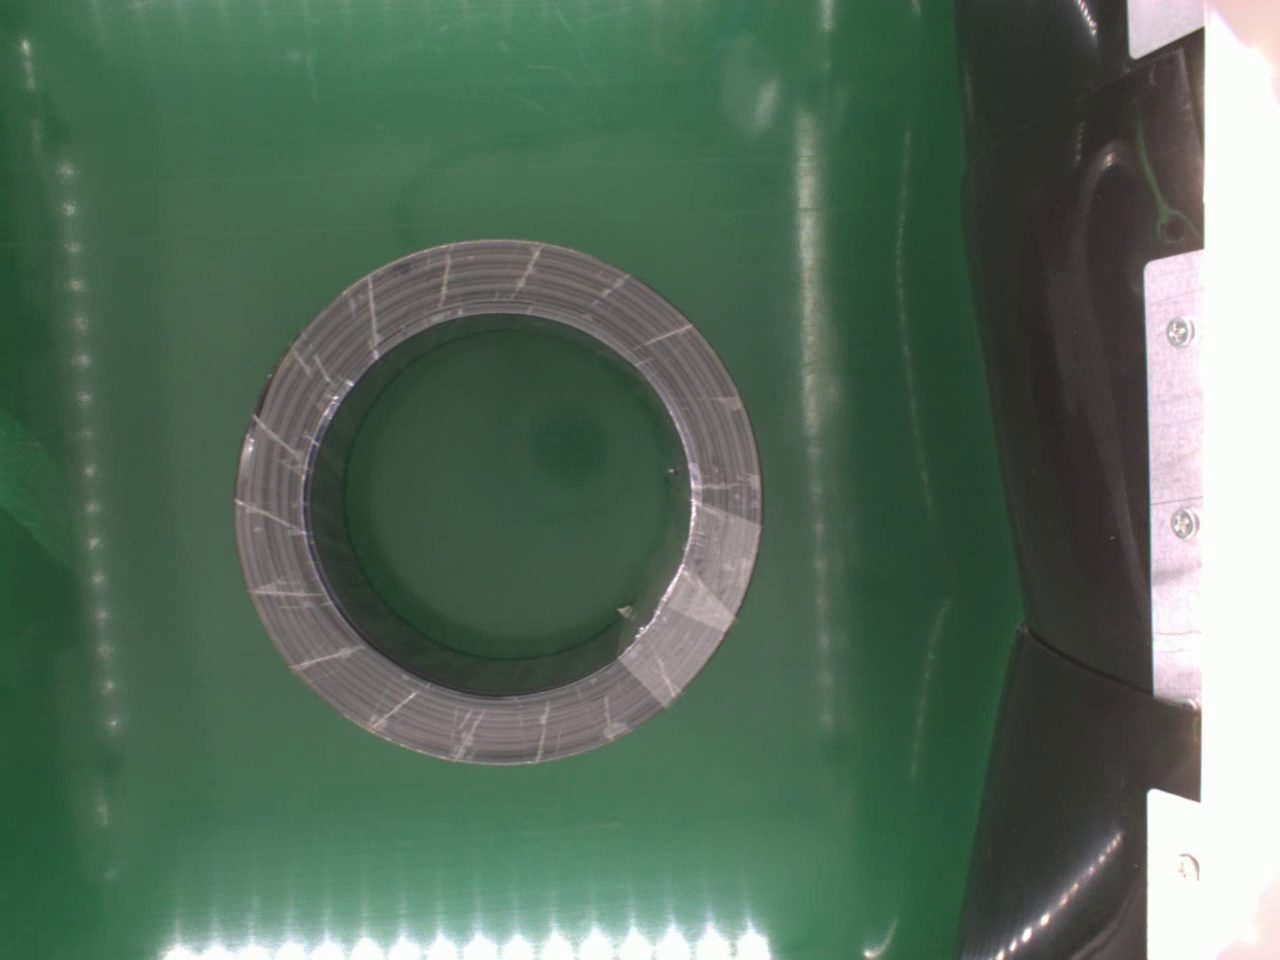black: (231, 235, 770, 776)
